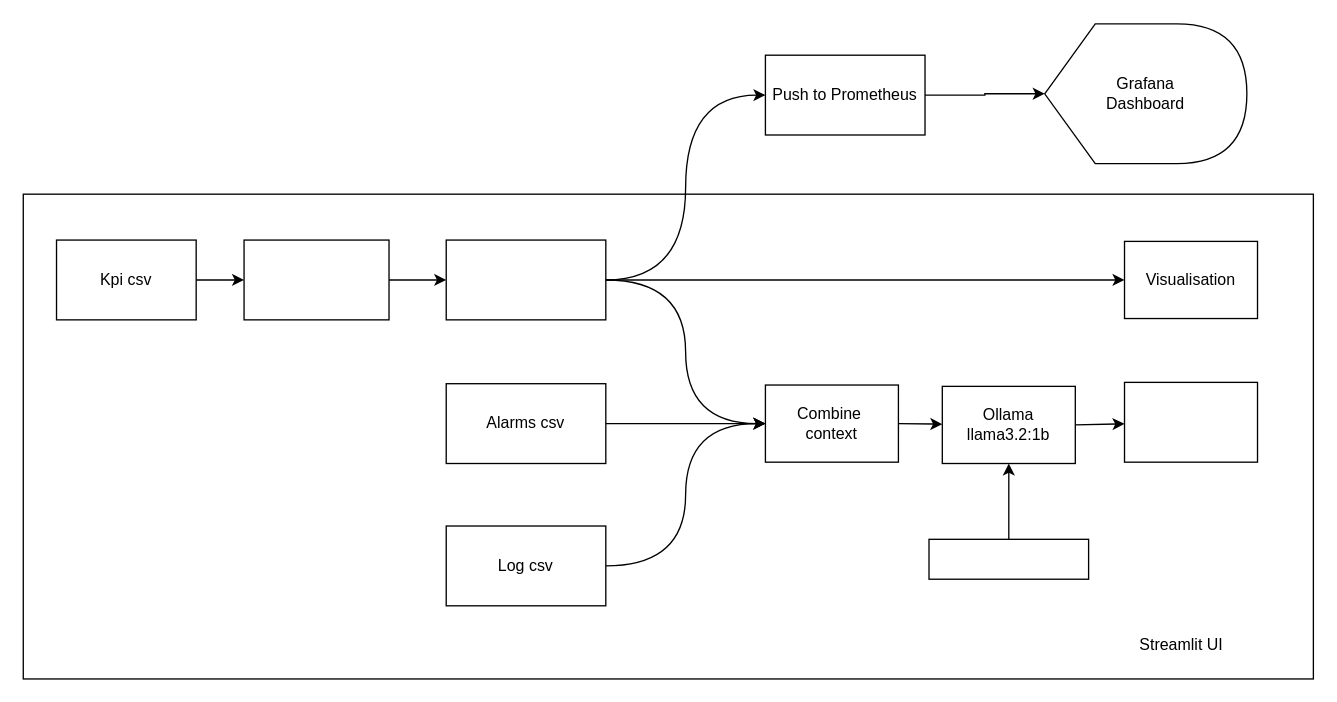
Some shapes in this 1337 by 702 pixel diagram are drawn without their labels. Each missing label, with the centre of its shape:
"Anomaly Detection" belongs at point 316,279.
"Anomaly Kpi csv" belongs at point 525,279.
"RCA" belongs at point 1190,421.
"User query" belongs at point 1008,558.
